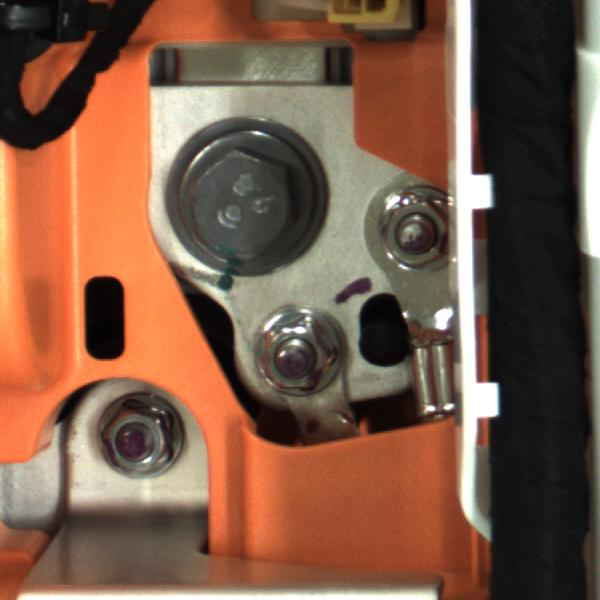nut_b: (157, 120, 333, 266)
screw_s: (84, 403, 189, 490), (371, 187, 469, 279), (253, 308, 355, 396)
